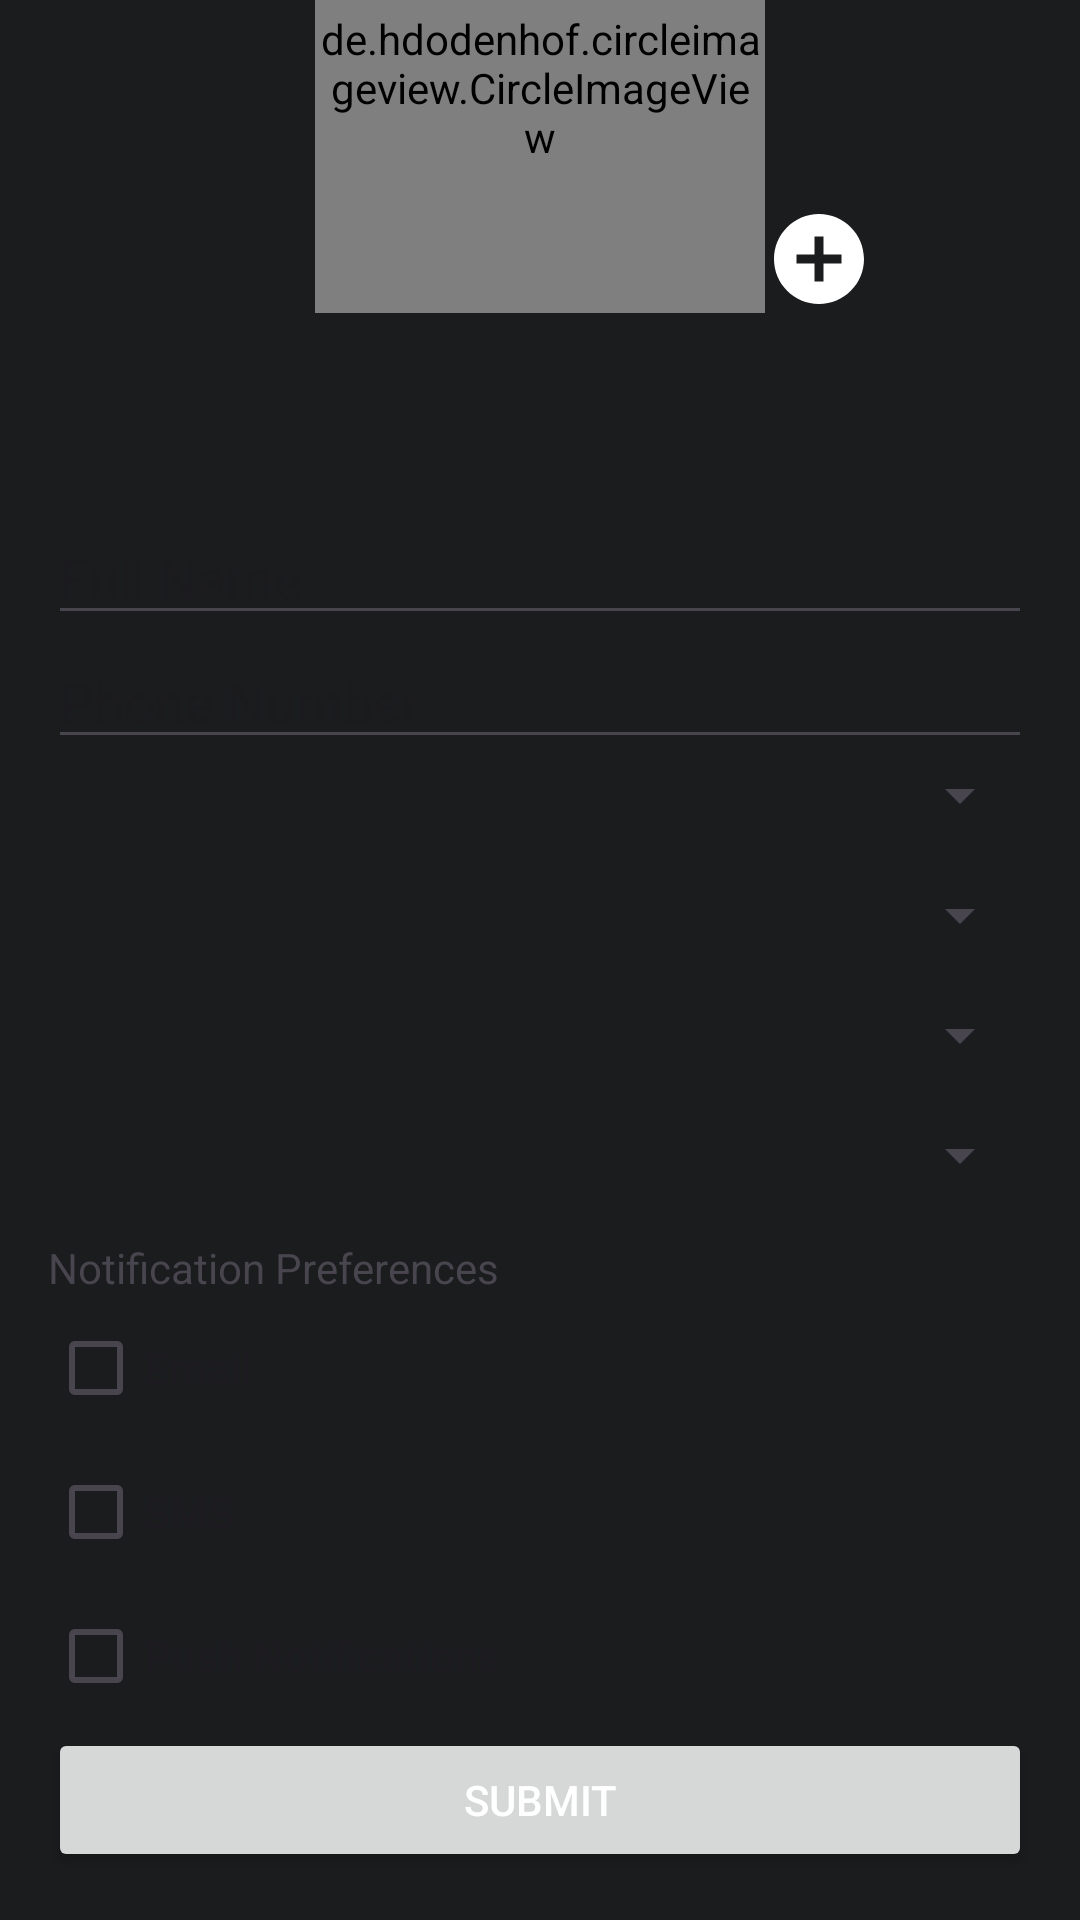

Named icons in this screenshot (1080 x 1920) and their bounding boxes, (x1, y1, x2, y2):
add: (774, 214, 864, 304)
